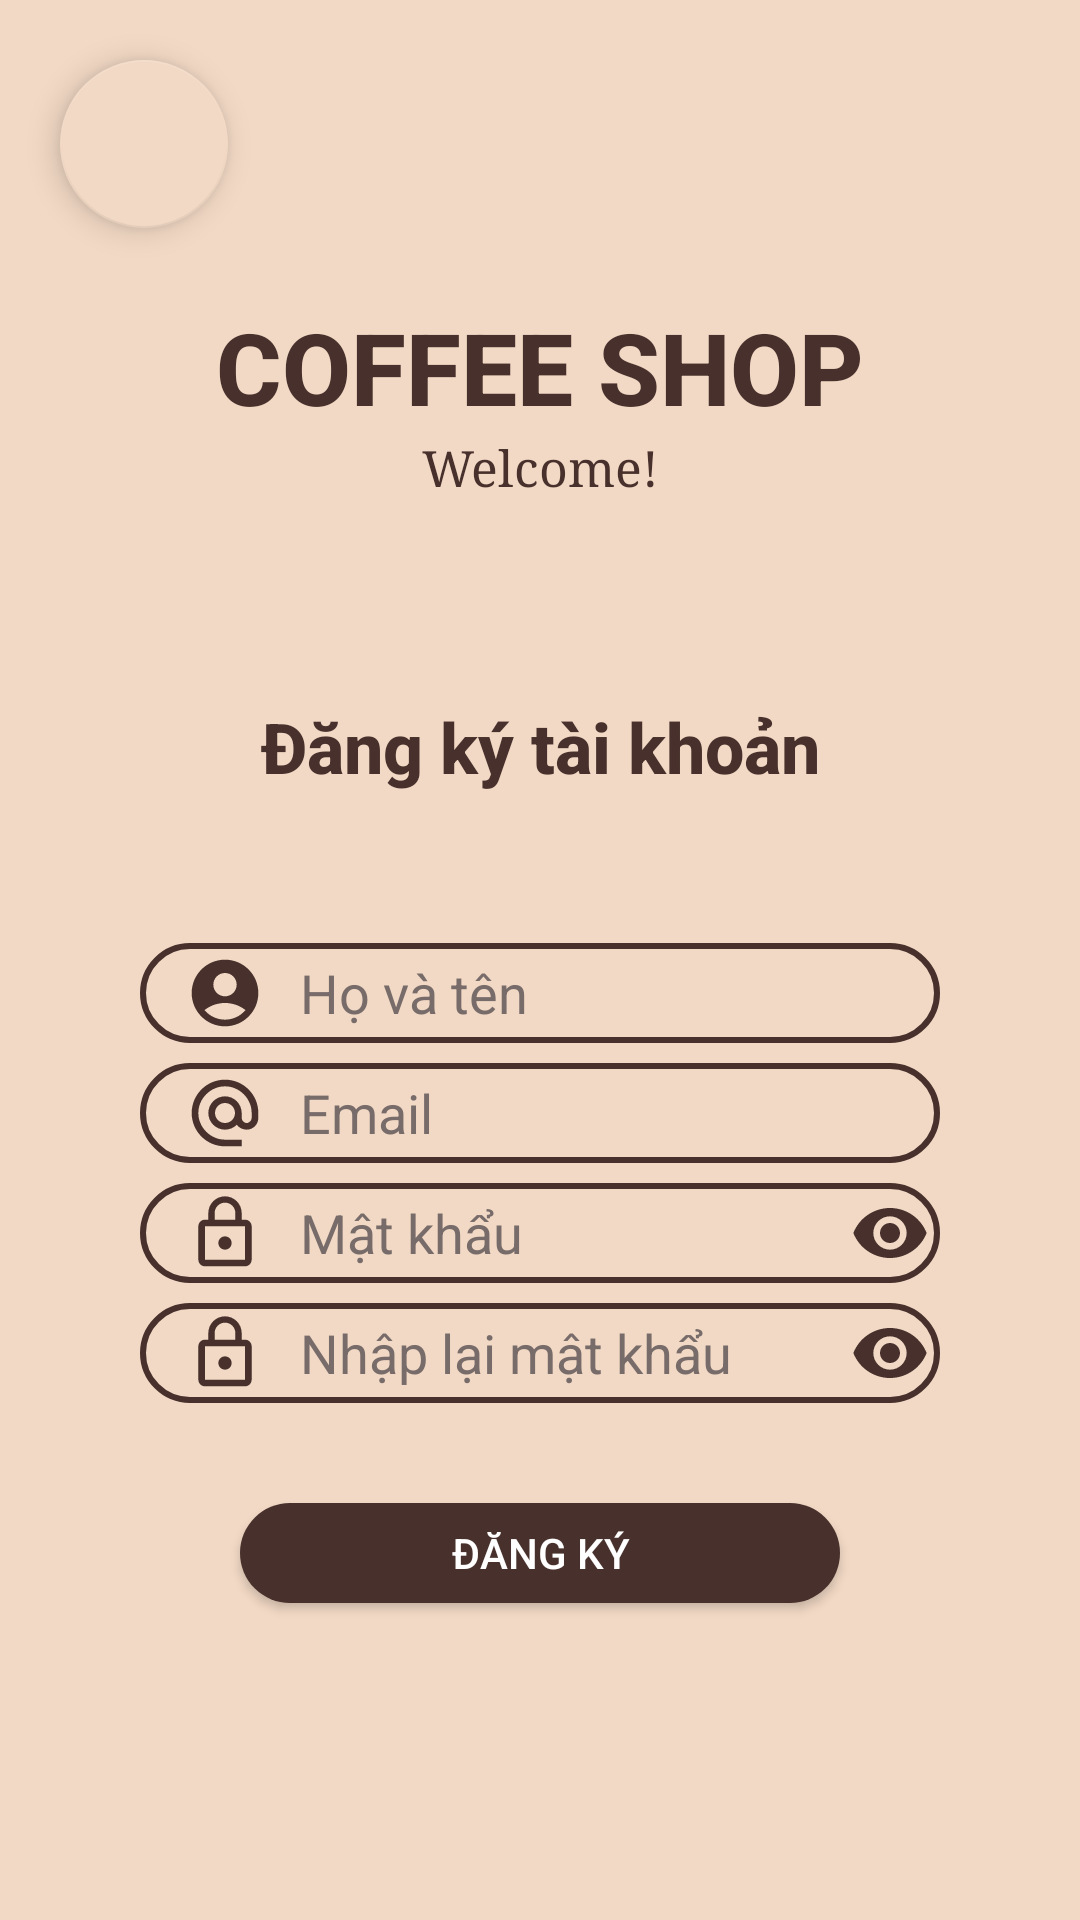

Named icons in this screenshot (1080*1920) and their bounding boxes, (x1, y1, x2, y2):
account circle: (191, 959, 259, 1027)
lock: (198, 1196, 252, 1267), (198, 1316, 252, 1387)
visibility: (853, 1208, 927, 1258), (853, 1328, 927, 1378)
